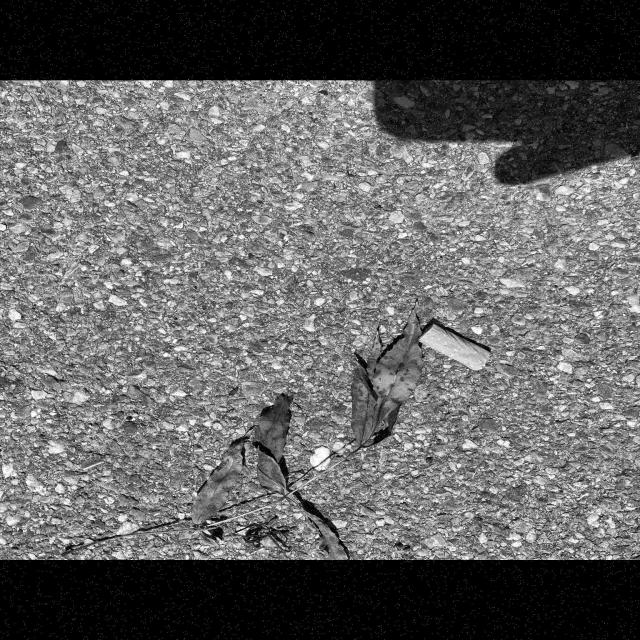other waste: (416, 322, 492, 371)
